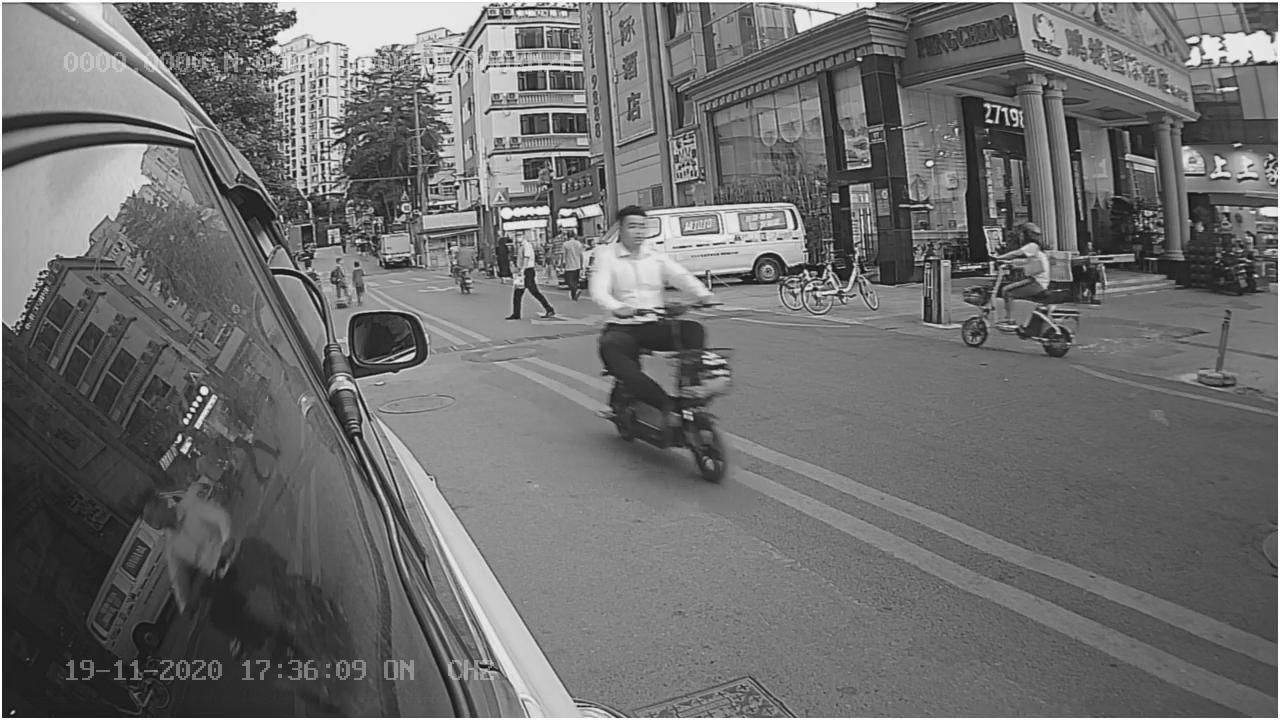person: (591, 206, 685, 307)
